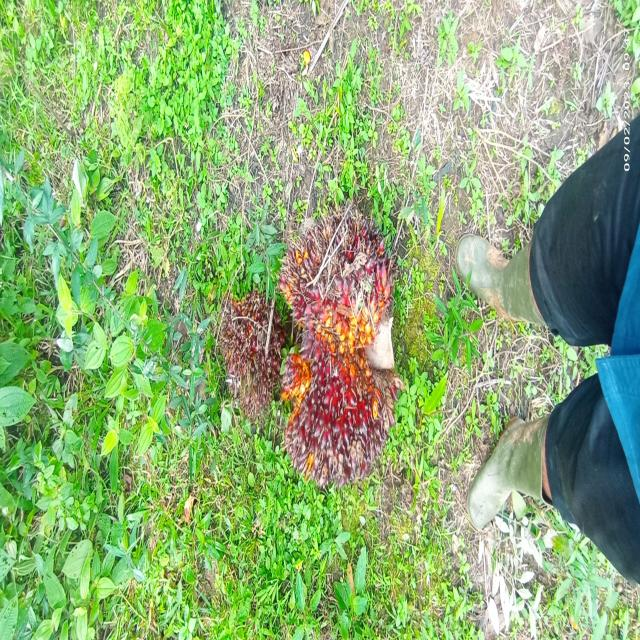fraksi 1: (208, 242, 292, 428)
fraksi 3: (271, 183, 423, 500)
